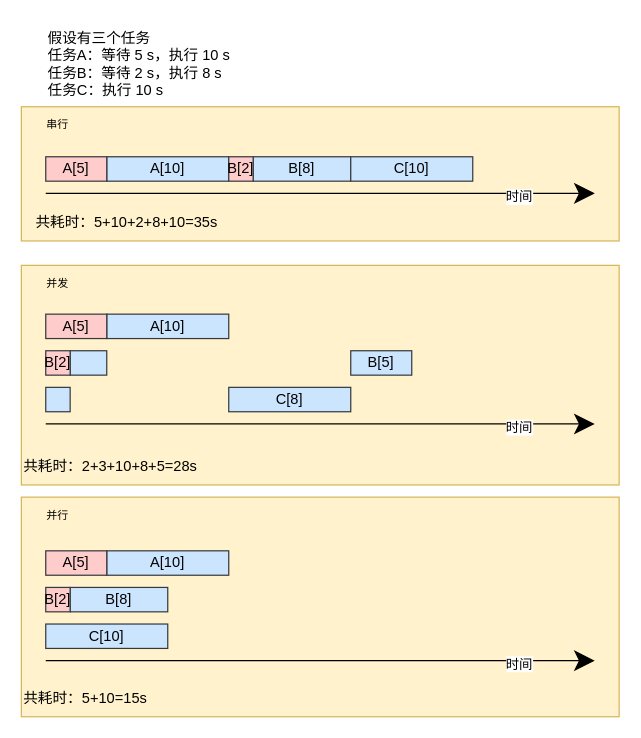
This 641x738 diagram has some shape labels left out. The shapes that lost their labels are listed below. From the top down, each one's centre as x and y in pixels, then its label:
At pixel 88 362: "B[3]".
At pixel 57 399: "C[2]".
